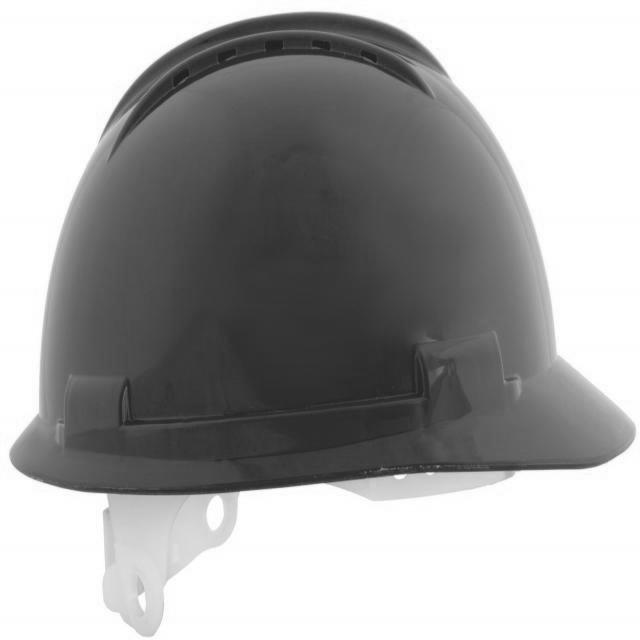construction helmet: (9, 12, 637, 503)
